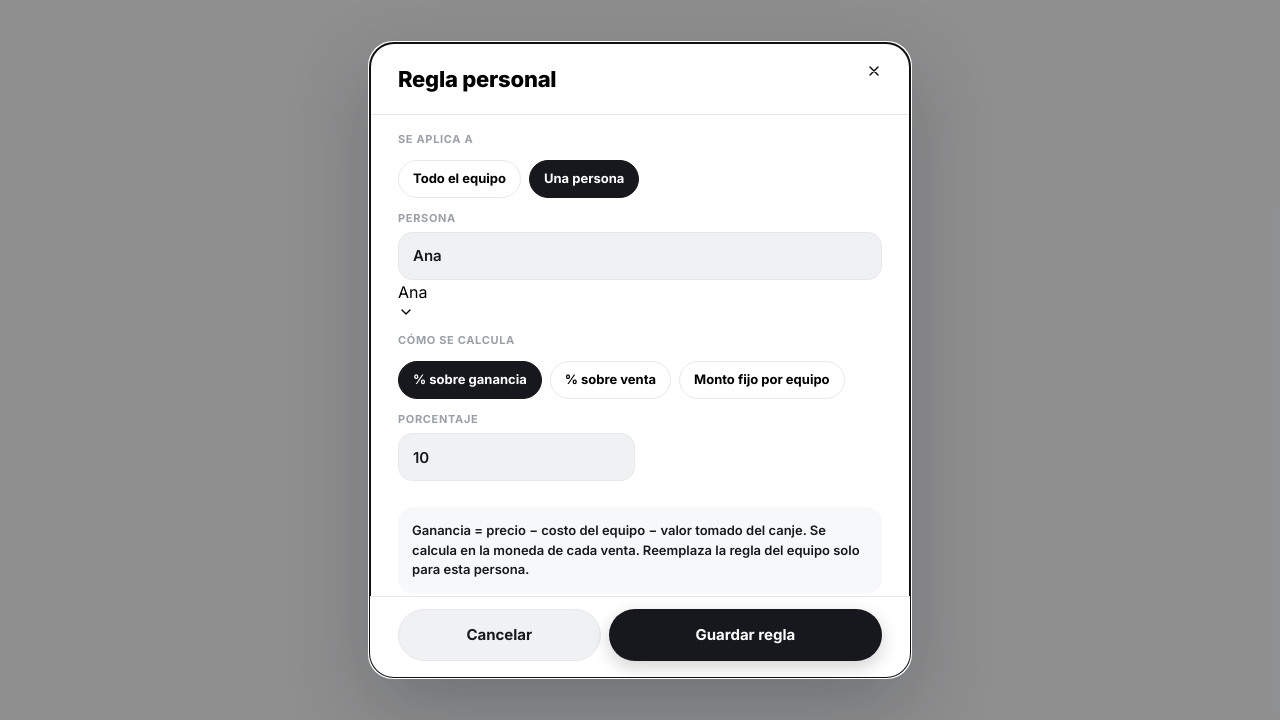
Test case: regla personal › keeps save failures visible even when the directory request fails later
Click the button "Guardar regla" at (745, 635), box top-left (608, 609), bottom-right (882, 661)
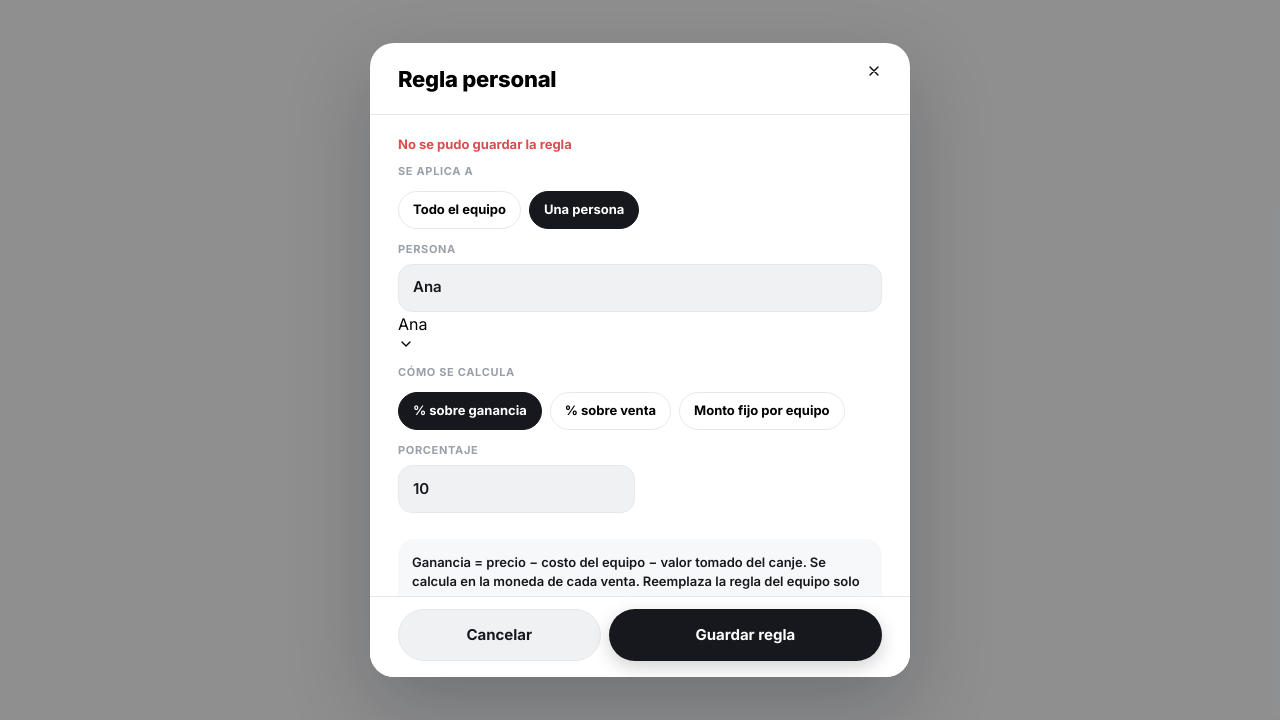
Check: the dialog is shown, box top-left (370, 43), bottom-right (910, 677)
Check: the message shows "No se pudo guardar", box top-left (398, 136), bottom-right (572, 152)
